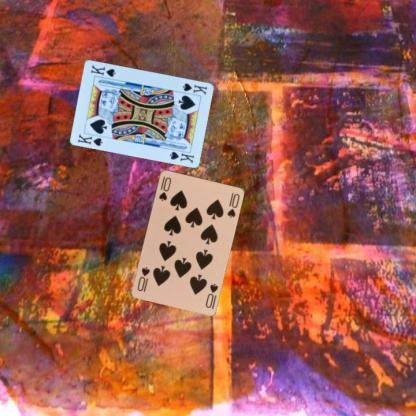10s: (203, 280, 219, 309), (156, 174, 172, 202)
Ks: (180, 80, 209, 96), (76, 131, 104, 147)
